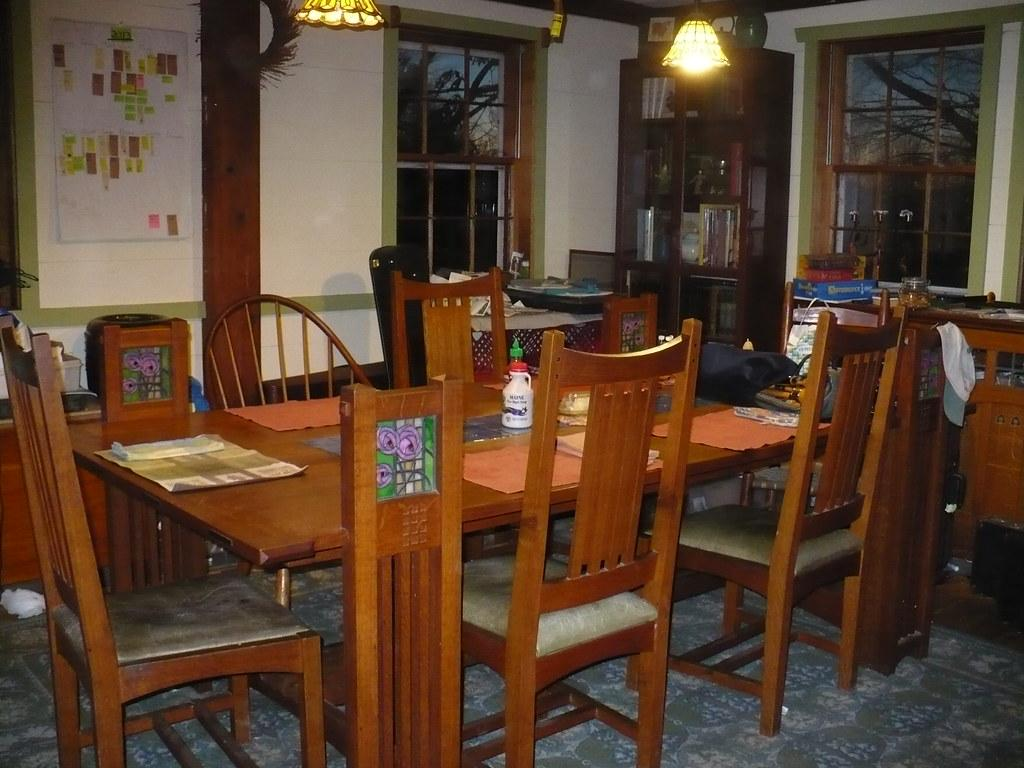table: (55, 372, 947, 746), (64, 372, 843, 584)
